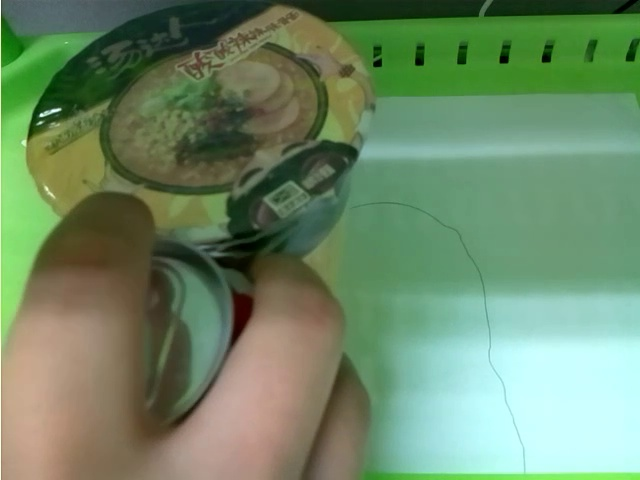cocacola: (132, 232, 257, 418)
hand: (3, 199, 374, 474)
noodles: (27, 3, 376, 260)
